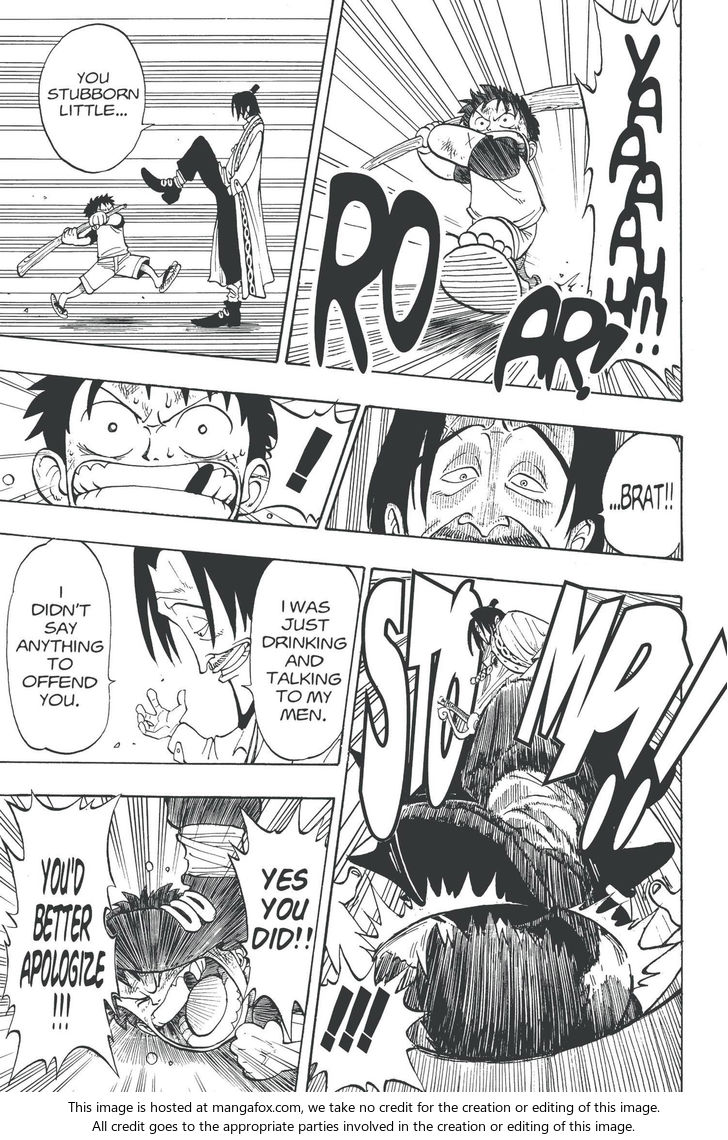bubble: (575, 0, 681, 390), (2, 790, 121, 1085), (229, 800, 329, 1041), (6, 537, 115, 754), (242, 559, 360, 759), (310, 946, 429, 1093), (38, 24, 154, 172), (253, 399, 354, 521), (598, 432, 682, 558)
